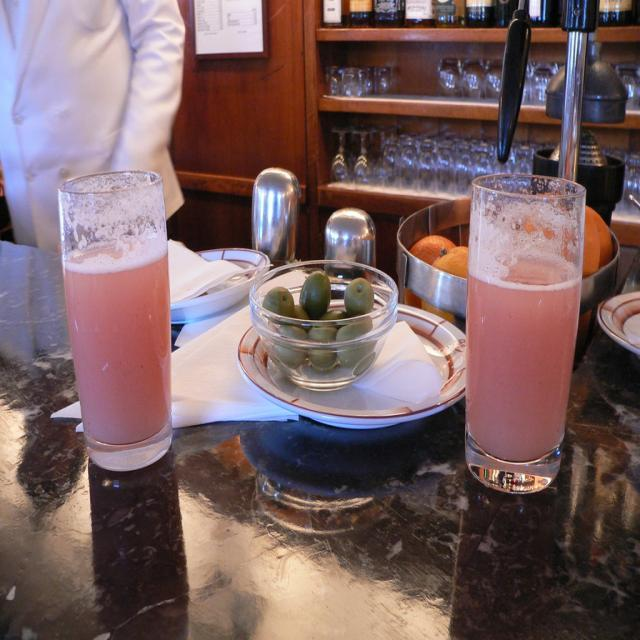Juice: (57, 170, 170, 464), (464, 252, 580, 464)
